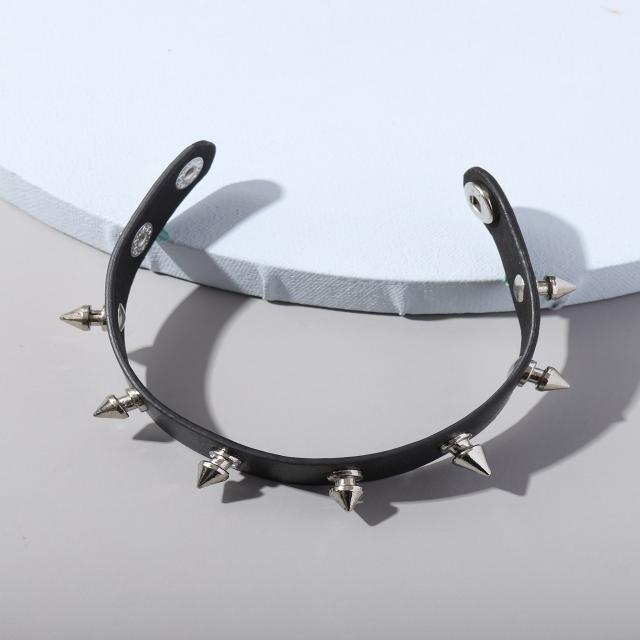bracelet: (16, 73, 613, 537)
